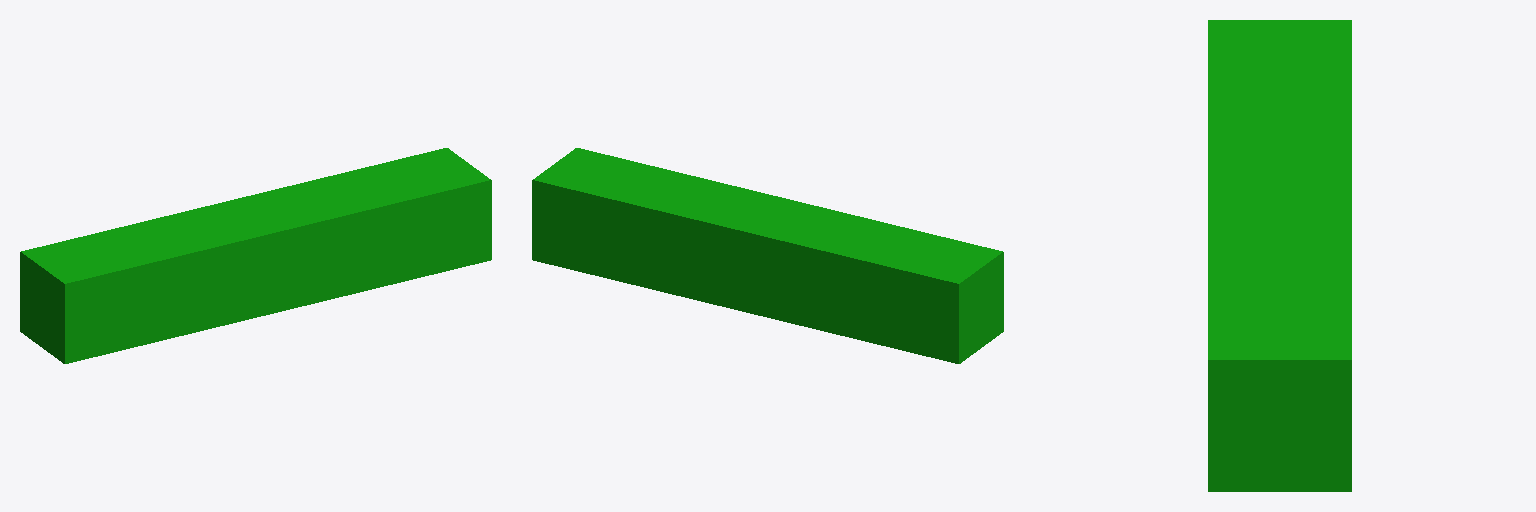
robot.urdf — block_2:
<?xml version="1.0"?>
<robot name="block_2">
  <link name="block_2_base_link">
    <contact>
      <lateral_friction value="1.0"/>
      <spinning_friction value=".001"/>
    </contact>
    <inertial>
      <origin rpy="0 0 0" xyz="0 0 0"/>
      <mass value="0.02"/>
      <inertia ixx="1" ixy="0" ixz="0" iyy="1" iyz="0" izz="1"/>
    </inertial>
    <visual>
      <origin rpy="0 0 0" xyz="0.0 0.0 0.0"/>
      <geometry>
        <box size="0.10 0.018 0.018"/>
      </geometry>
      <material name="blockmat">
        <color rgba="0.1 0.7 0.1 1"/>
      </material>
    </visual>
    <collision>
      <origin rpy="0 0 0" xyz="0.0 0.0 0.0"/>
      <geometry>
        <box size="0.10 0.018 0.018"/>
      </geometry>
    </collision>
  </link>
</robot>

--- Facts derived from the render (not from the file) ---
3 views of the same robot in one strip: view 1: azimuth 30°, elevation 25°; view 2: azimuth 150°, elevation 25°; view 3: azimuth 270°, elevation 25° (orthographic).
Robot: block_2 — 1 links, 0 joints (none); root link block_2_base_link; default pose: every joint at zero.
Links seen in each view (by area): view 1: block_2_base_link; view 2: block_2_base_link; view 3: block_2_base_link.
Boxes of the visible links, box(x1,y1,x2,y2) form: block_2_base_link: box(20, 148, 491, 363); block_2_base_link: box(532, 148, 1003, 363); block_2_base_link: box(1208, 20, 1351, 491).
Size in the robot's own frame: 0.1 by 0.018 by 0.018 metres.
Geometry: primitives only (box / cylinder / sphere), no mesh files.